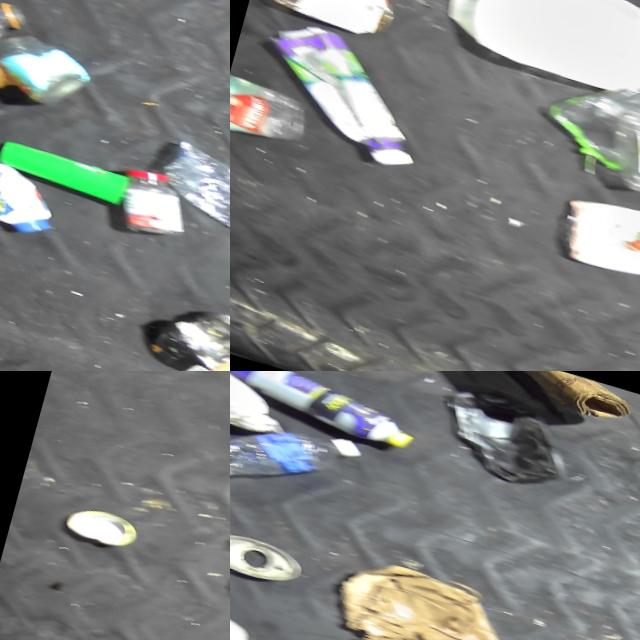can: (230, 523, 307, 589), (59, 500, 141, 553)
milk_jug: (435, 0, 640, 107), (230, 371, 298, 439)
plastic_bottle: (230, 389, 363, 519), (146, 132, 230, 240)
